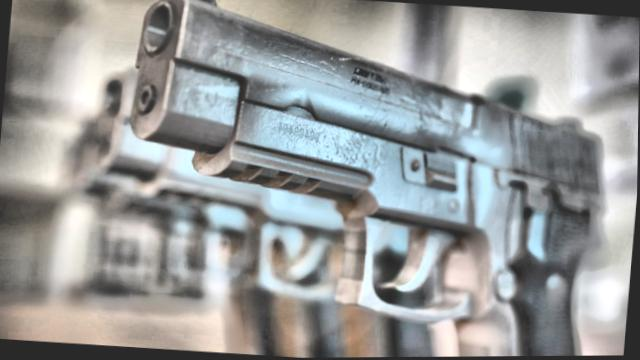pistol: (105, 0, 614, 359)
